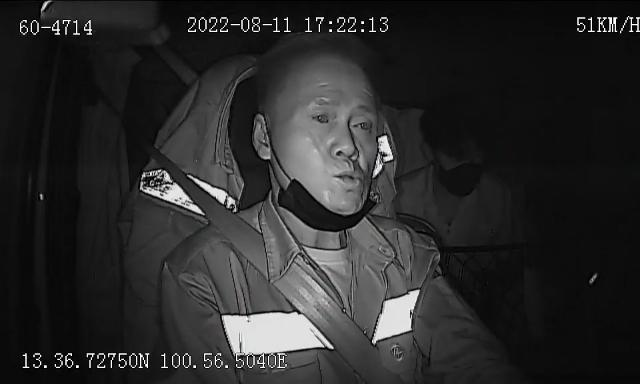SafeDriving: (346, 110, 378, 138), (306, 104, 338, 130)
Seatbelt: (142, 138, 404, 384)
